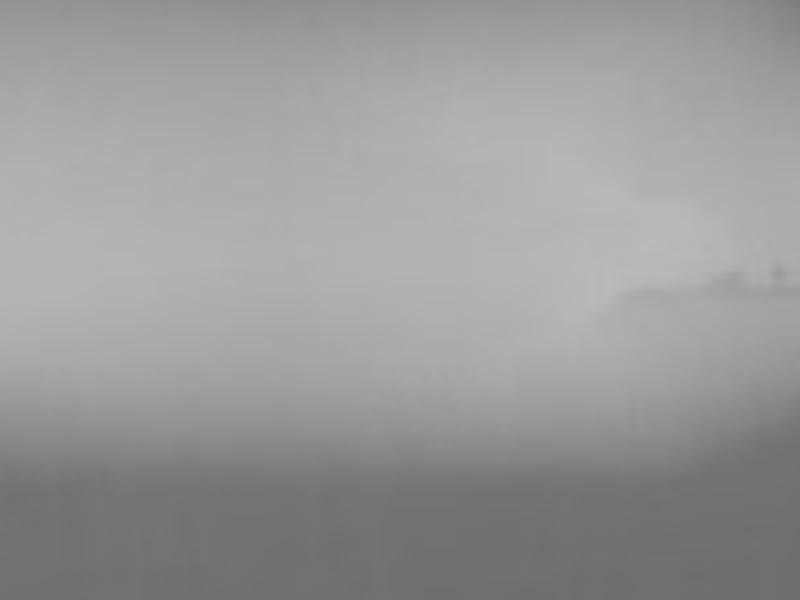defect: (768, 262, 793, 288)
